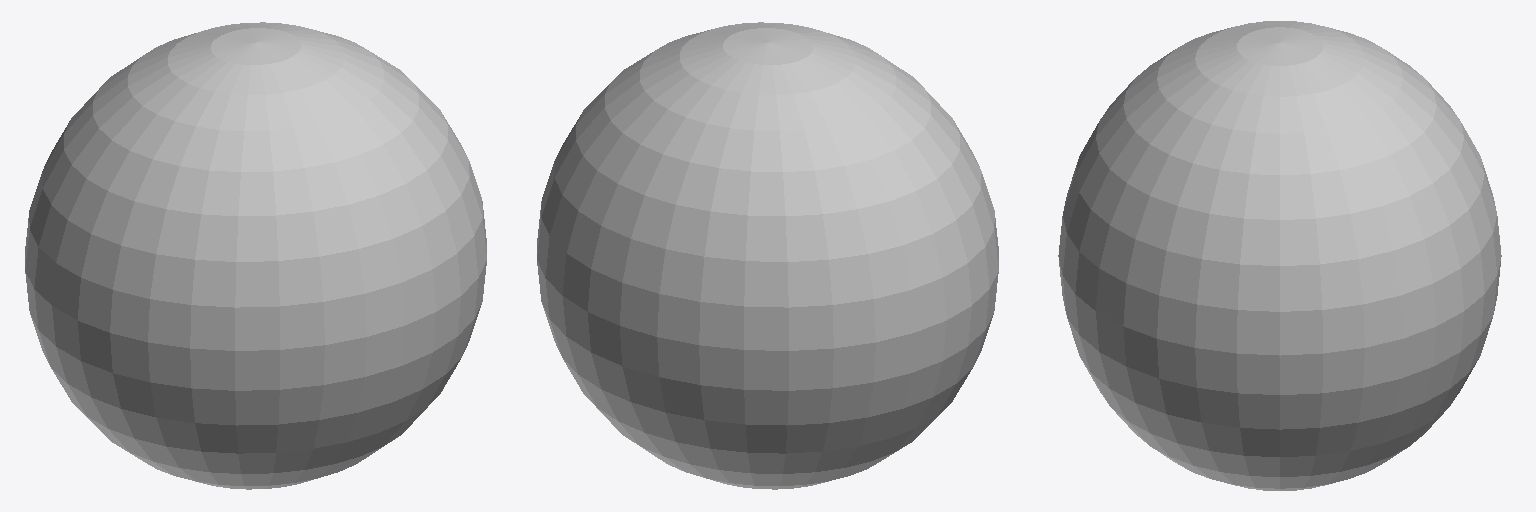
File: ball.obj
The picture shows the model from 3 angles: view 1: azimuth 30°, elevation 25°; view 2: azimuth 150°, elevation 25°; view 3: azimuth 270°, elevation 25°; orthographic projection.
Parts seen in each view (by area): view 1: Sphere; view 2: Sphere; view 3: Sphere.
Part boxes in pixels (left/top/right/bottom): Sphere: left=25, top=22, right=486, bottom=489; Sphere: left=537, top=22, right=998, bottom=489; Sphere: left=1058, top=21, right=1501, bottom=490.
Size of the model in its own units: 10.33 by 10.33 by 9.72.